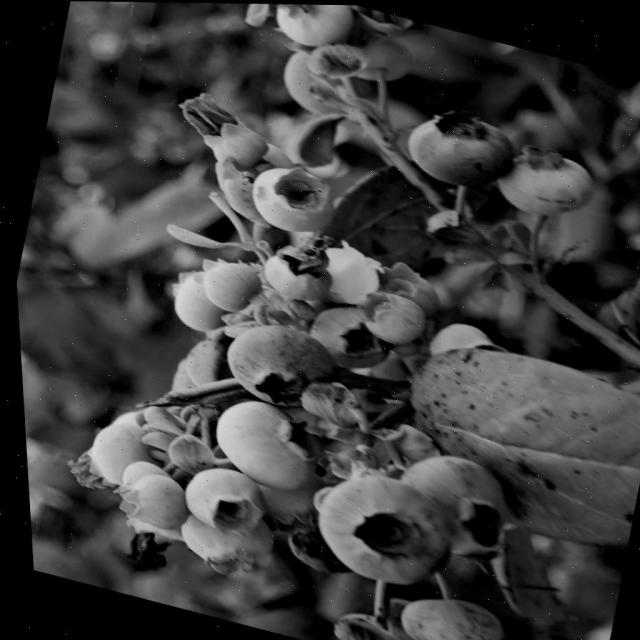RipeBlueBerry: (296, 458, 459, 598), (208, 309, 340, 419), (397, 98, 521, 198)
Semi-RipeBlueBerry: (382, 441, 518, 565)
UnripeBlueBerry: (192, 389, 328, 500), (489, 134, 603, 227), (386, 584, 503, 640)
